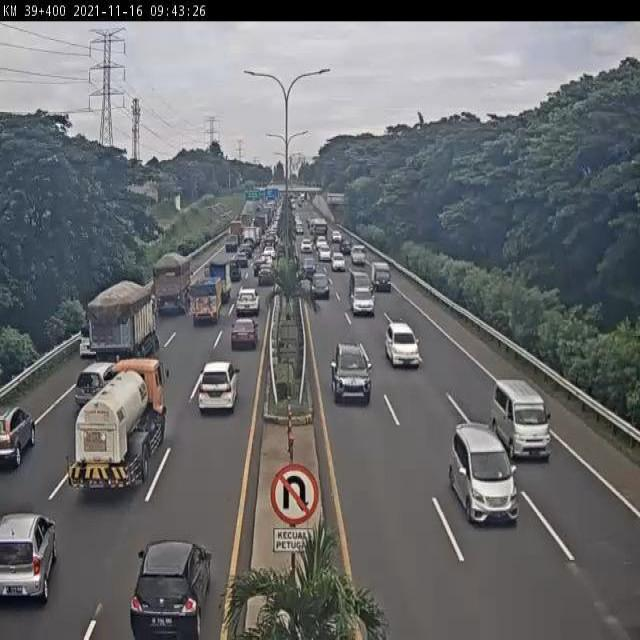car: (124, 526, 216, 640), (443, 420, 528, 537), (484, 366, 559, 471), (0, 504, 68, 609), (0, 385, 42, 479), (193, 350, 243, 422), (73, 361, 123, 415), (331, 340, 373, 403), (385, 322, 423, 374), (226, 316, 262, 357), (228, 286, 270, 318), (76, 321, 101, 363), (348, 269, 377, 299), (309, 268, 332, 304), (254, 258, 279, 290), (370, 263, 396, 293), (350, 287, 374, 316), (350, 244, 373, 268), (329, 248, 350, 273), (301, 256, 321, 276)
truck-l-: (71, 279, 170, 369), (143, 252, 196, 320)
truck-m-: (63, 350, 183, 506), (186, 272, 229, 333), (205, 257, 235, 307)
